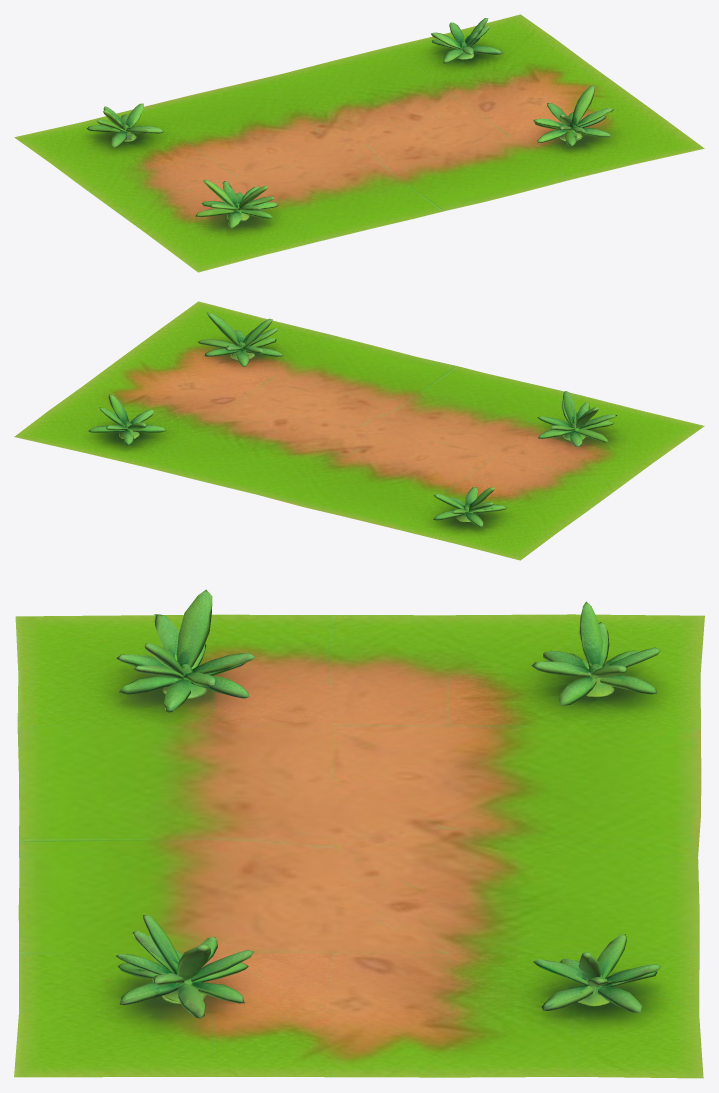
The model's file is s2_r4c6_dirt_path_patch.glb.
The picture shows the model from 3 angles, top to bottom: view 1: azimuth 30°, elevation 25°; view 2: azimuth 150°, elevation 25°; view 3: azimuth 270°, elevation 25°; orthographic projection. The views are drawn at different scales.
Size of the model in its own units: 1 by 0.0787 by 0.6318.
Materials: 1 (1 with a texture image).
